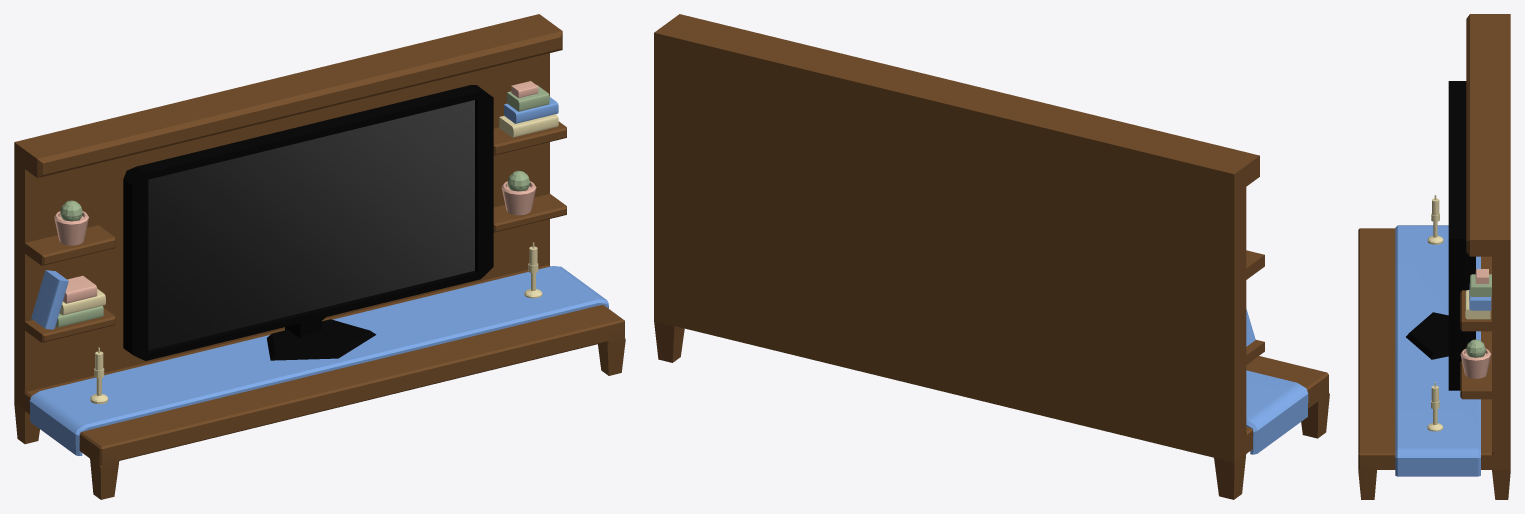
The model's file is geo_TVOOFF_01.fbx.
3 views of the same model, side by side, from view 1: azimuth 30°, elevation 25°; view 2: azimuth 150°, elevation 25°; view 3: azimuth 270°, elevation 25° (orthographic). The views are drawn at different scales.
Parts seen in each view (by area): view 1: Cabinet, geo_TV_01, geo_tableRunner_02, geo_TVStand_01, geo_Book_0, geo_Book_6, geo_PlantContainer_01, geo_PlantContainer_02, geo_Book_5, geo_Book_3; view 2: Cabinet, geo_tableRunner_02; view 3: Cabinet, geo_tableRunner_02, geo_TV_01, geo_TVStand_01, geo_PlantContainer_02, geo_candle_06, geo_candle_07, geo_Book_4, geo_Book_6, geo_Book_5, geo_plantShrub_03, geo_Book_7.
Boxes of the visible parts, box(x1,y1,x2,y2) form: Cabinet: box(14, 14, 625, 499); geo_TV_01: box(123, 85, 493, 360); geo_tableRunner_02: box(29, 266, 608, 455); geo_TVStand_01: box(266, 319, 376, 360); geo_Book_0: box(31, 270, 68, 329); geo_Book_6: box(499, 114, 558, 137); geo_PlantContainer_01: box(54, 211, 88, 245); geo_PlantContainer_02: box(501, 181, 536, 215); geo_Book_5: box(504, 97, 558, 123); geo_Book_3: box(63, 275, 97, 303); Cabinet: box(654, 14, 1329, 499); geo_tableRunner_02: box(1246, 370, 1308, 454); Cabinet: box(1358, 14, 1510, 499); geo_tableRunner_02: box(1395, 225, 1480, 476); geo_TV_01: box(1448, 81, 1475, 390); geo_TVStand_01: box(1406, 312, 1448, 359); geo_PlantContainer_02: box(1460, 349, 1491, 378); geo_candle_06: box(1427, 195, 1443, 244); geo_candle_07: box(1427, 382, 1443, 431); geo_Book_4: box(1470, 274, 1491, 297); geo_Book_6: box(1465, 290, 1490, 319); geo_Book_5: box(1469, 283, 1491, 310); geo_plantShrub_03: box(1466, 339, 1485, 356); geo_Book_7: box(1475, 269, 1488, 283).
Bounding box in the file's own units: 283 × 150 × 79.66.
Materials: 11 (1 with a texture image).
